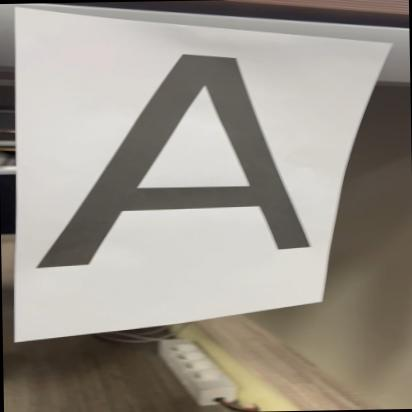seat: (21, 39, 325, 275)
